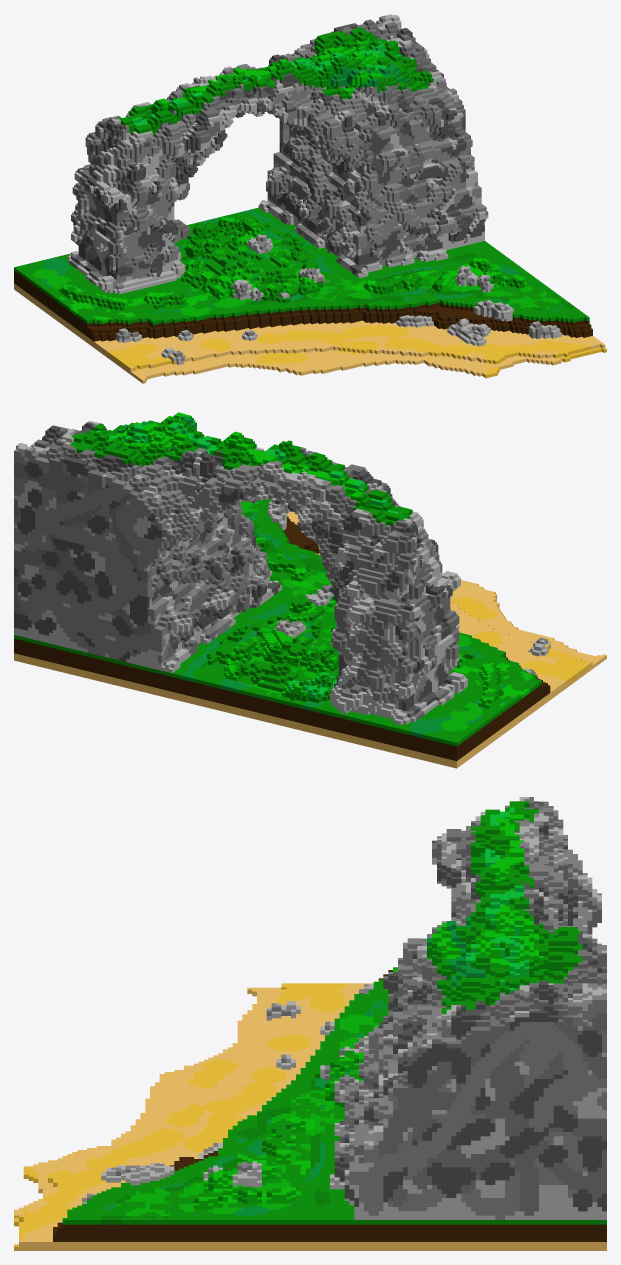
Rendered from Border1.obj.
The picture shows the model from 3 angles, top to bottom: view 1: azimuth 30°, elevation 25°; view 2: azimuth 150°, elevation 25°; view 3: azimuth 270°, elevation 25°; orthographic projection. The views are drawn at different scales.
Size of the model in its own units: 126 by 64 by 122.
1 material, 1 textured.
